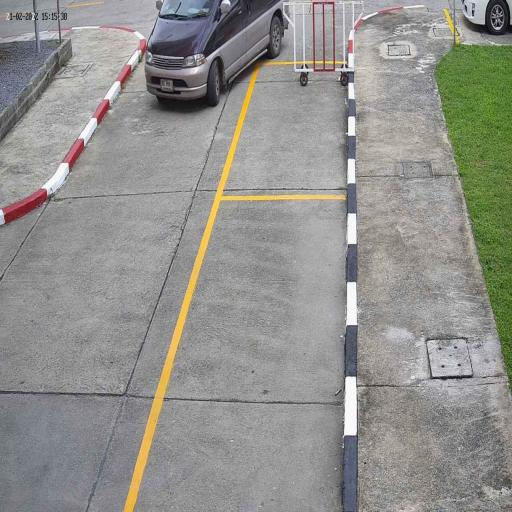car: (145, 0, 293, 105)
